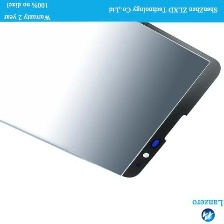phone: (0, 0, 223, 181)
